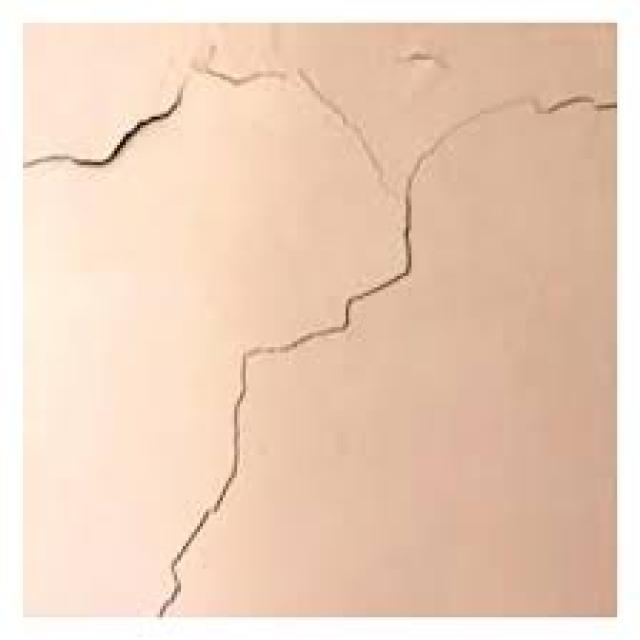Crack: (154, 196, 412, 612), (185, 37, 388, 185), (400, 85, 614, 194), (20, 77, 177, 168)
